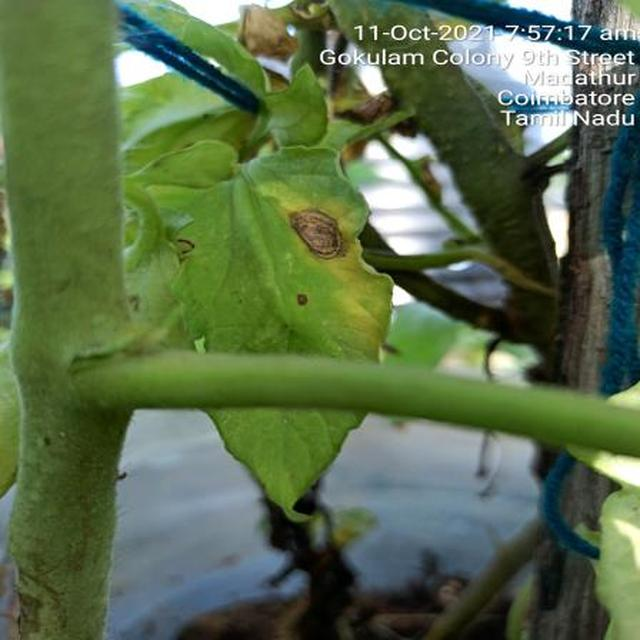Early Blight Leaf: (240, 211, 562, 640)
